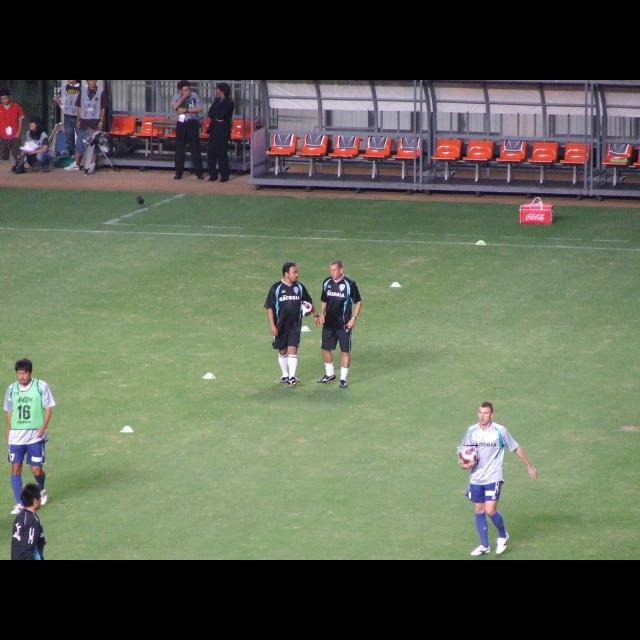Football: (458, 445, 478, 465)
